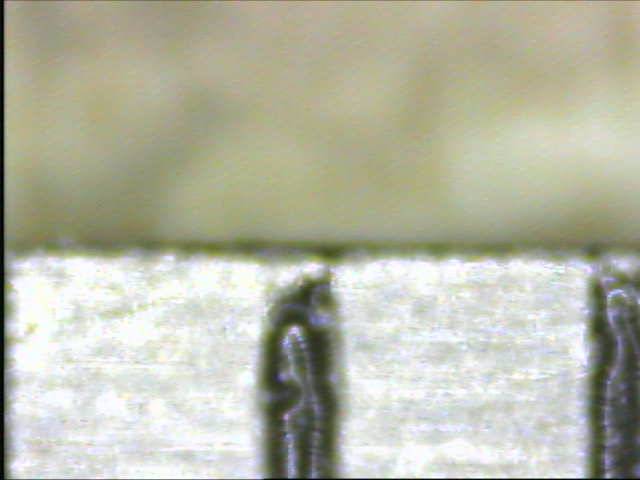line: (258, 260, 348, 477)
